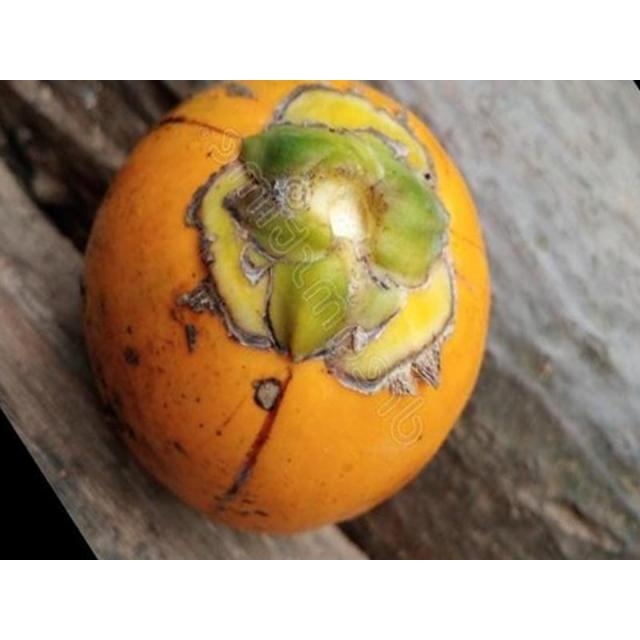good: (79, 80, 490, 538)
